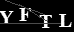F: (18, 8, 32, 22)
L: (58, 13, 72, 28)
T: (38, 14, 53, 29)
Y: (1, 10, 14, 24)
